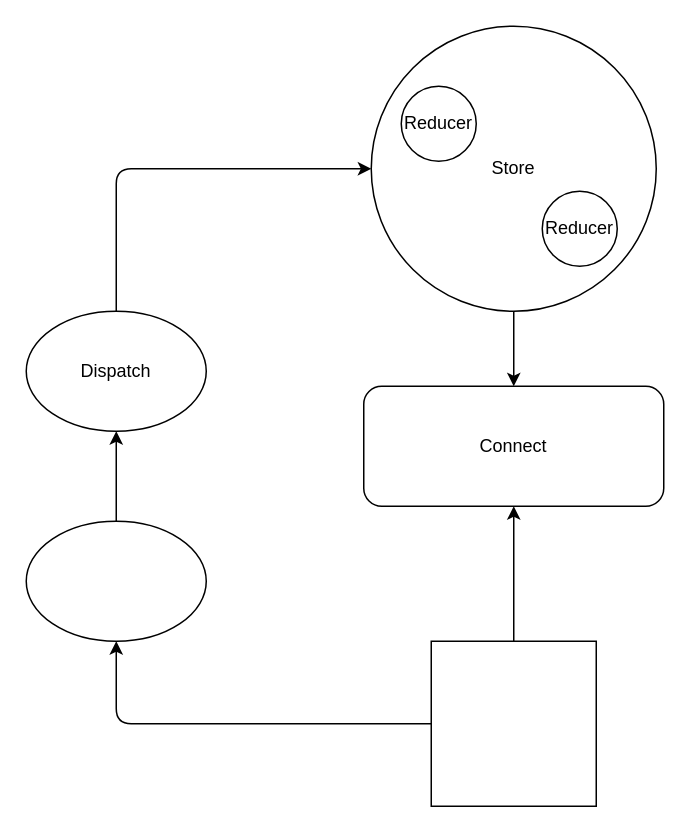
This 690x833 diagram has some shape labels left out. The shapes that lost their labels are listed below. From the top down, each one's box as (x1, y1, x2, y2) in pixels, then its label:
(25, 520, 206, 641): Action
(430, 640, 596, 806): React view
